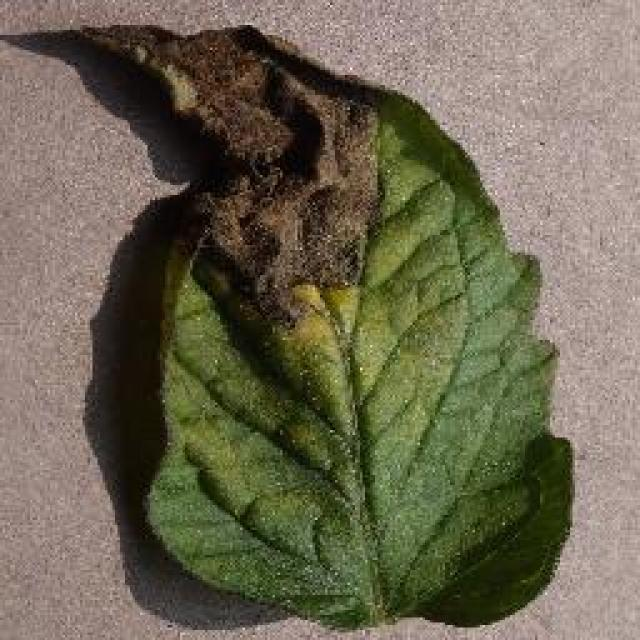Tomato___Late_blight: (90, 28, 568, 622)
